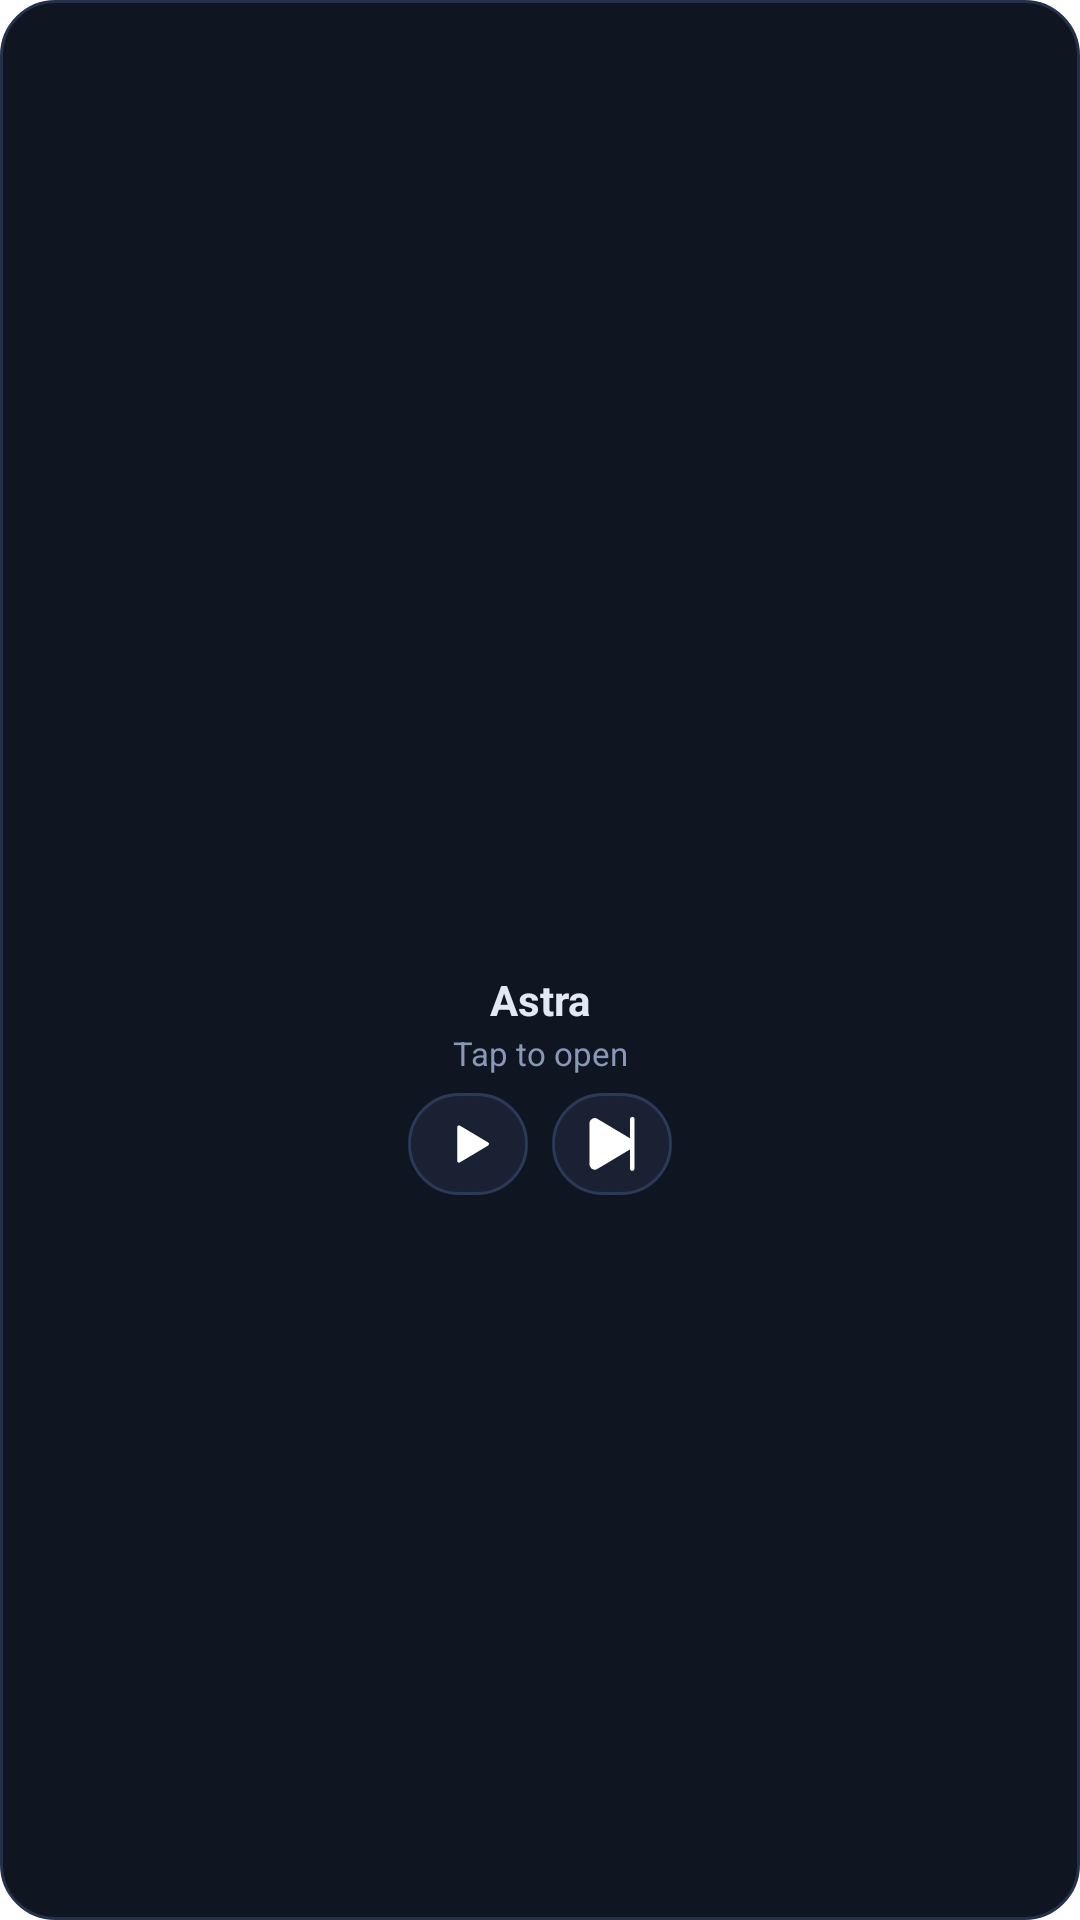

Screen size 1080 x 1920. Icon name, then its box in pixels as (x1, y1, x2, y2):
Next: (552, 1093, 672, 1195)
Play: (408, 1093, 528, 1195)
